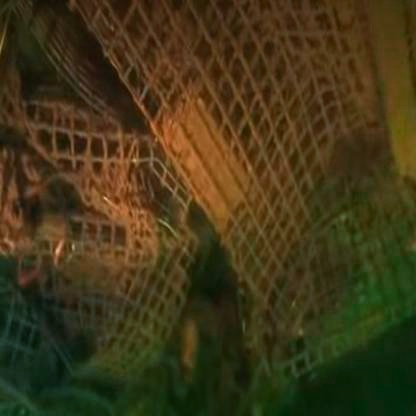net: (15, 40, 408, 348)
